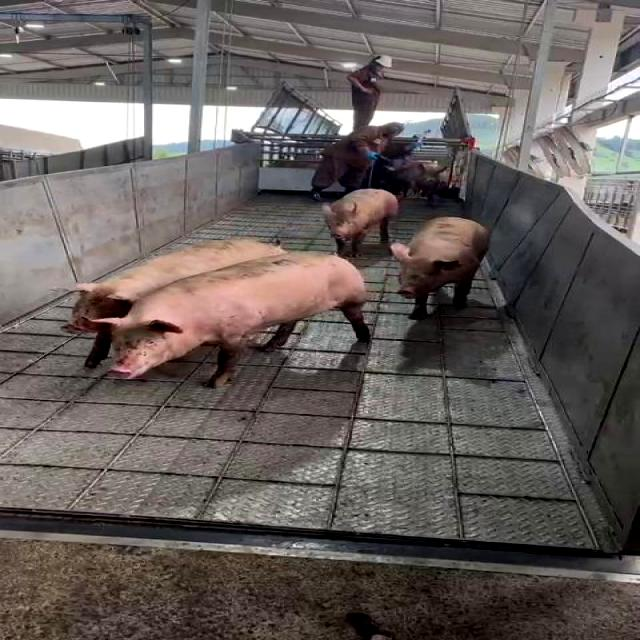pig: (108, 255, 369, 385), (64, 239, 286, 367), (392, 217, 489, 317), (323, 189, 397, 258)
